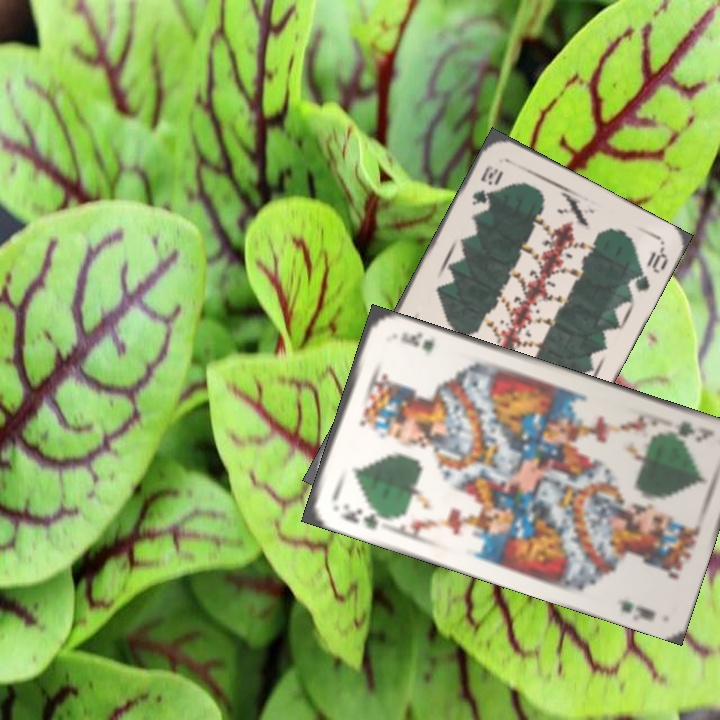G10: (467, 161, 506, 208)
GK: (337, 499, 390, 533), (661, 417, 718, 446)
